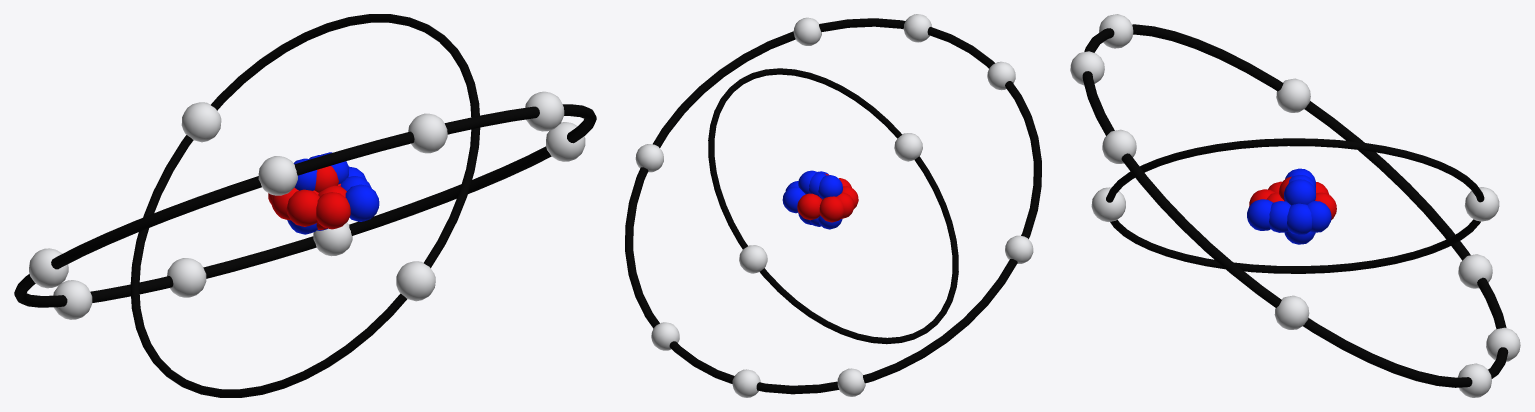
File: 10 Neon.fbx
The picture shows the model from 3 angles, left to right: view 1: azimuth 30°, elevation 25°; view 2: azimuth 150°, elevation 25°; view 3: azimuth 270°, elevation 25°; orthographic projection. The views are drawn at different scales.
Parts seen in each view (by area): view 1: Orbita.002, Orbita.001, Electron.004, Electron.008, Electron.001, Electron.010, Electron.009, Electron.003, Electron.002, Electron.005, Electron.006, Sphere.019 (+3 smaller); view 2: Orbita.002, Orbita.001, Electron.001, Electron.004, Electron.002, Electron.003, Electron.005, Electron.006, Electron.009, Electron.010, Electron.007, Electron.008 (+4 smaller); view 3: Orbita.002, Orbita.001, Electron.006, Electron.005, Electron.002, Electron.003, Electron.001, Electron.004, Electron.010, Electron.007, Electron.009, Electron.008 (+5 smaller).
Boxes of the visible parts, x1,y1,x2,y2 form: Orbita.002: (14,104,596,307); Orbita.001: (130,14,480,397); Electron.004: (396,261,435,301); Electron.008: (258,156,297,195); Electron.001: (181,102,221,142); Electron.010: (408,113,447,153); Electron.009: (167,258,206,297); Electron.003: (53,280,92,319); Electron.002: (525,91,564,131); Electron.005: (29,248,68,288); Electron.006: (546,122,585,161); Sphere.019: (316,192,350,229); Orbita.002: (625,18,1041,394); Orbita.001: (708,68,958,344); Electron.001: (739,245,767,273); Electron.004: (894,133,922,161); Electron.002: (793,17,821,45); Electron.003: (837,368,865,396); Electron.005: (1005,235,1033,263); Electron.006: (635,144,663,172); Electron.009: (732,369,760,397); Electron.010: (903,14,931,42); Electron.007: (651,322,679,350); Electron.008: (987,61,1015,90); Orbita.002: (1082,24,1508,387); Orbita.001: (1106,138,1484,273); Electron.006: (1274,295,1309,329); Electron.005: (1276,78,1310,112); Electron.002: (1102,129,1136,163); Electron.003: (1458,254,1492,288); Electron.001: (1464,187,1499,221); Electron.004: (1091,187,1125,221); Electron.010: (1070,51,1104,85); Electron.007: (1457,363,1491,397); Electron.009: (1486,327,1520,361); Electron.008: (1099,14,1133,48).
Size of the model in its own units: 8.78 by 10.74 by 6.63.
